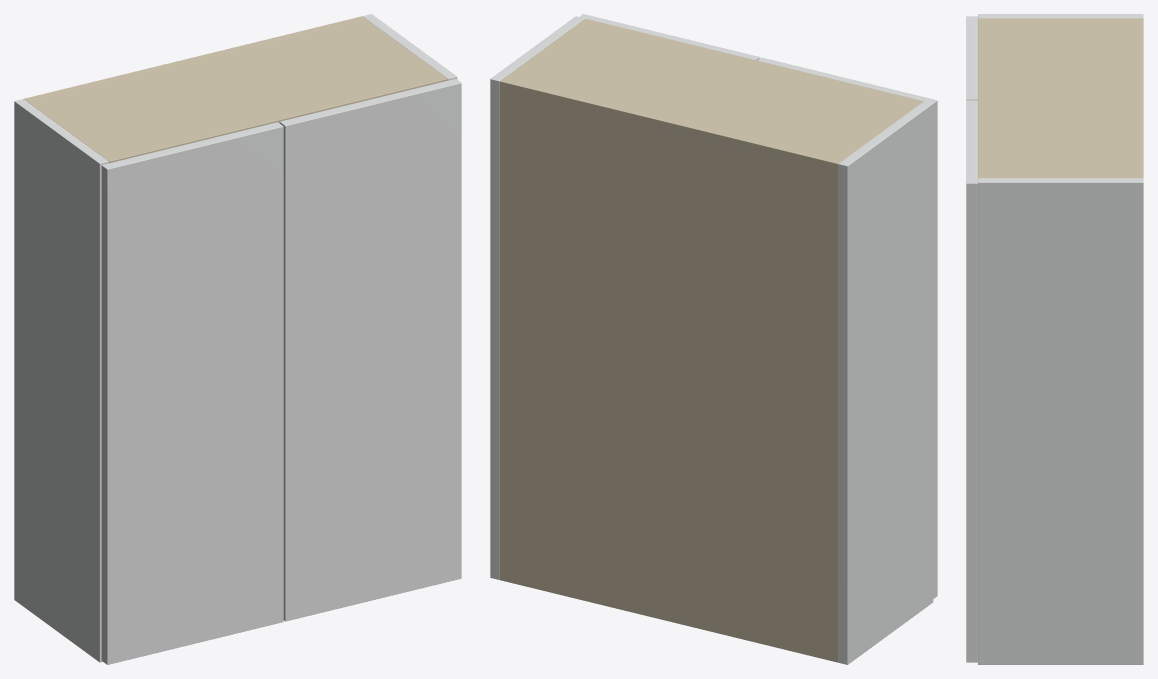
File: oppein-ply-pgw-w2736.glb
3 renders of one model, left to right at view 1: azimuth 30°, elevation 25°; view 2: azimuth 150°, elevation 25°; view 3: azimuth 270°, elevation 25°, orthographic. The views are drawn at different scales.
Visible parts, largest first — view 1: Door, Door.001, Cabinet side, Cabinet top, Cabinet back, Cabinet side.001; view 2: Cabinet back, Cabinet side, Cabinet top, Cabinet side.001, Door, Door.001; view 3: Cabinet side.001, Cabinet top, Door.001, Cabinet back, Door, Cabinet side.
Boxes of the visible parts, box(x1,y1,x2,y2) form: Door: box(101, 122, 283, 664); Door.001: box(279, 78, 461, 621); Cabinet side: box(14, 99, 108, 662); Cabinet top: box(24, 18, 447, 163); Cabinet back: box(24, 16, 364, 100); Cabinet side.001: box(362, 14, 457, 80); Cabinet back: box(499, 79, 841, 662); Cabinet side: box(838, 101, 933, 664); Cabinet top: box(500, 18, 923, 171); Cabinet side.001: box(490, 16, 584, 579); Door: box(757, 57, 937, 598); Door.001: box(579, 14, 759, 60); Cabinet side.001: box(978, 178, 1143, 664); Cabinet top: box(978, 18, 1143, 178); Door.001: box(966, 100, 977, 662); Cabinet back: box(1137, 18, 1143, 178); Door: box(966, 16, 977, 100); Cabinet side: box(978, 14, 1143, 18).
Size of the model in its own units: 0.6858 by 0.9144 by 0.3048.
